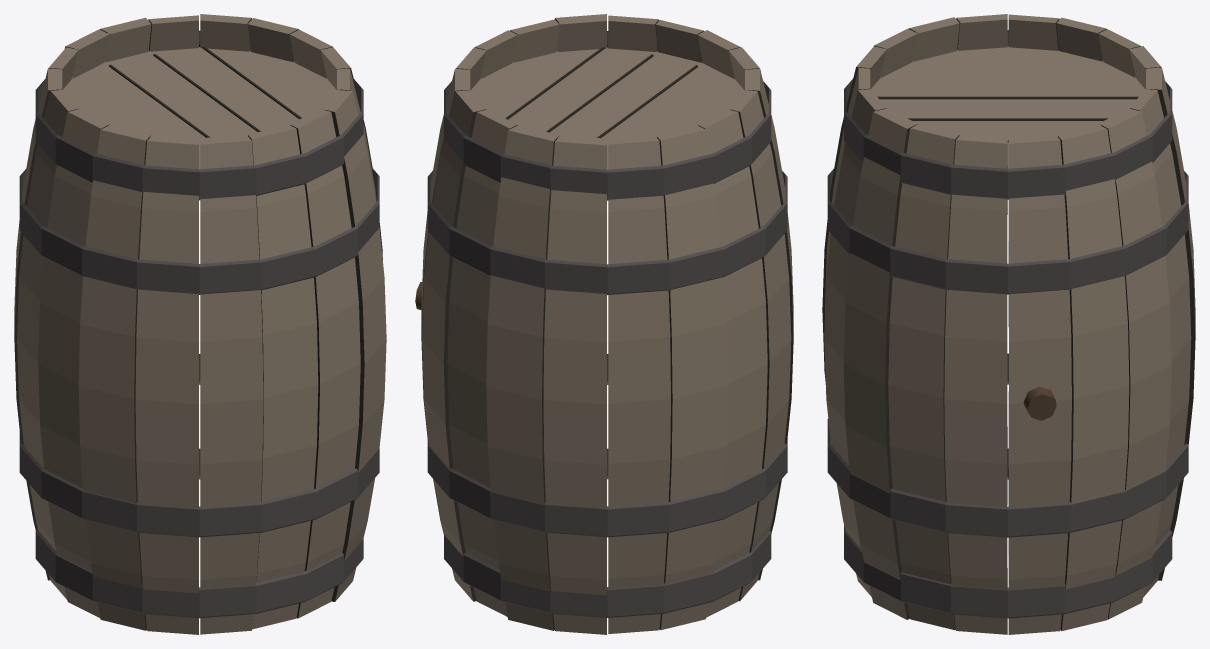
File: barrel.glb
3 views of the same model, side by side, from view 1: azimuth 30°, elevation 25°; view 2: azimuth 150°, elevation 25°; view 3: azimuth 270°, elevation 25° (orthographic).
Visible parts, largest first — view 1: barrel; view 2: barrel; view 3: barrel.
Part boxes in pixels (box(x1,y1,x2,y2)): barrel: box(14, 14, 386, 634); barrel: box(415, 14, 793, 634); barrel: box(822, 14, 1195, 634).
Size of the model in its own units: 0.6786 by 0.95 by 0.6544.
